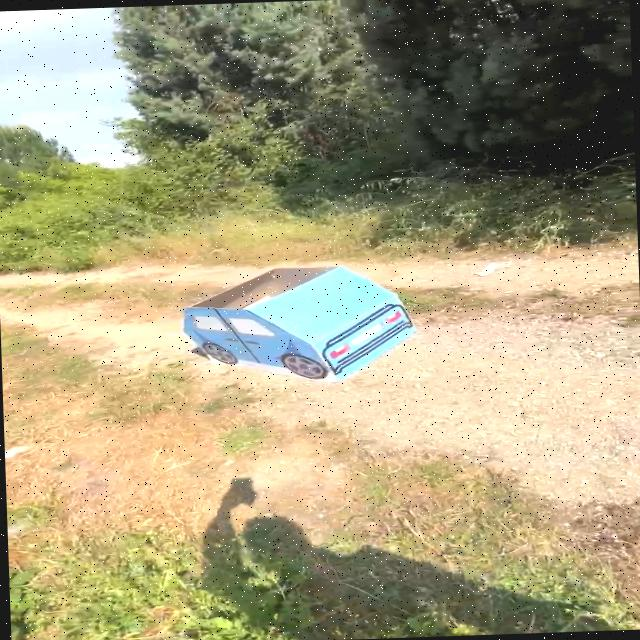blue_car: (168, 247, 442, 395)
